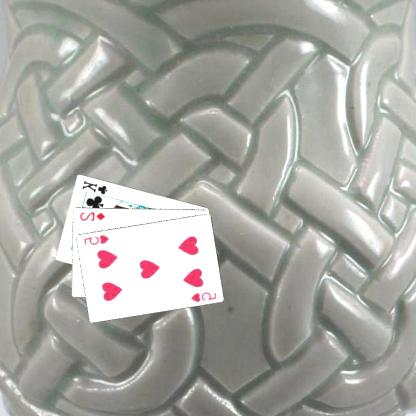2D: (79, 208, 108, 222)
5H: (189, 289, 219, 303), (83, 232, 112, 246)
KC: (81, 178, 111, 199)
